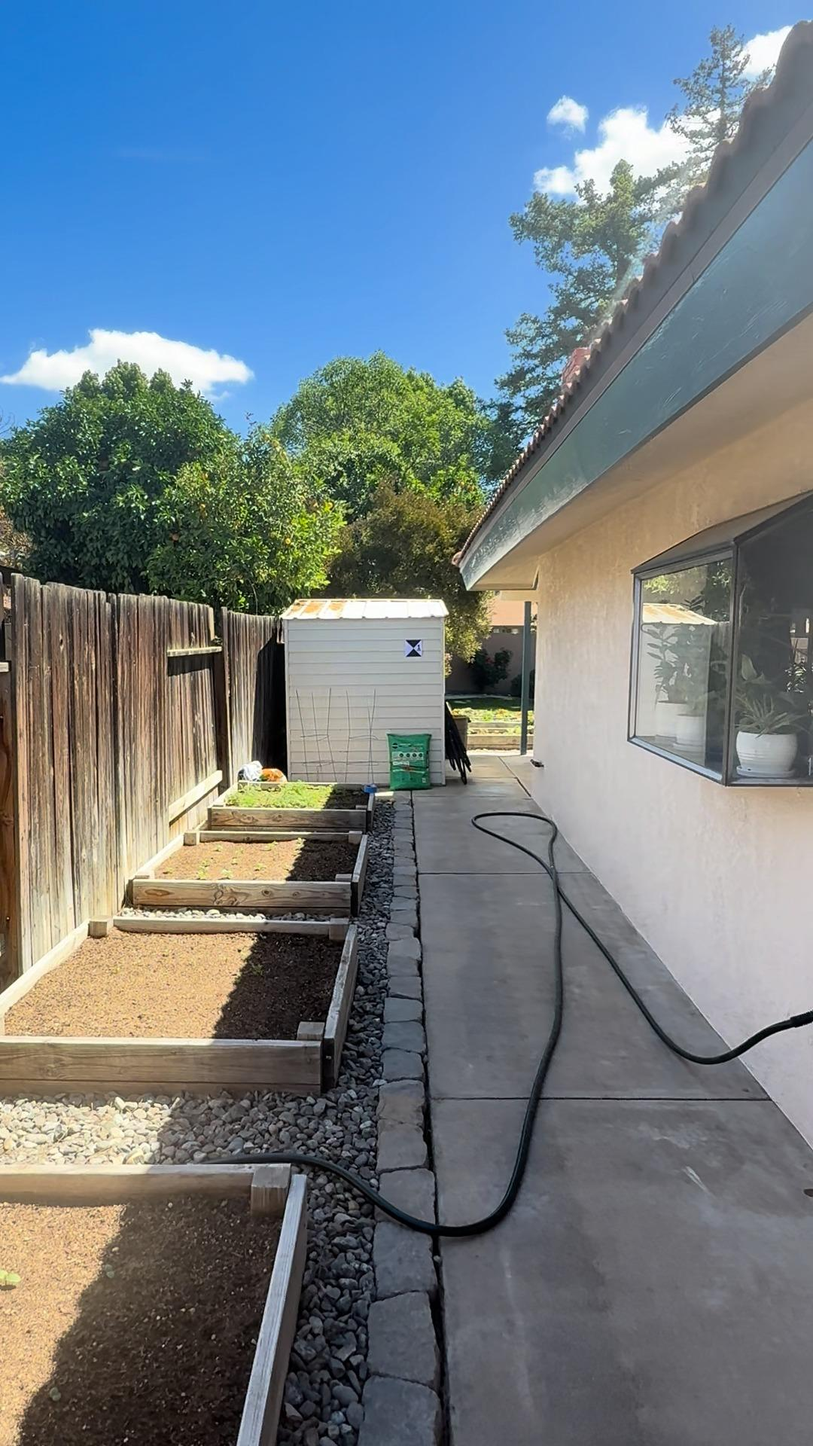target1: (404, 639, 425, 659)
